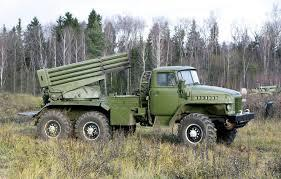MIL_SAM_TEL: (33, 54, 254, 151)
